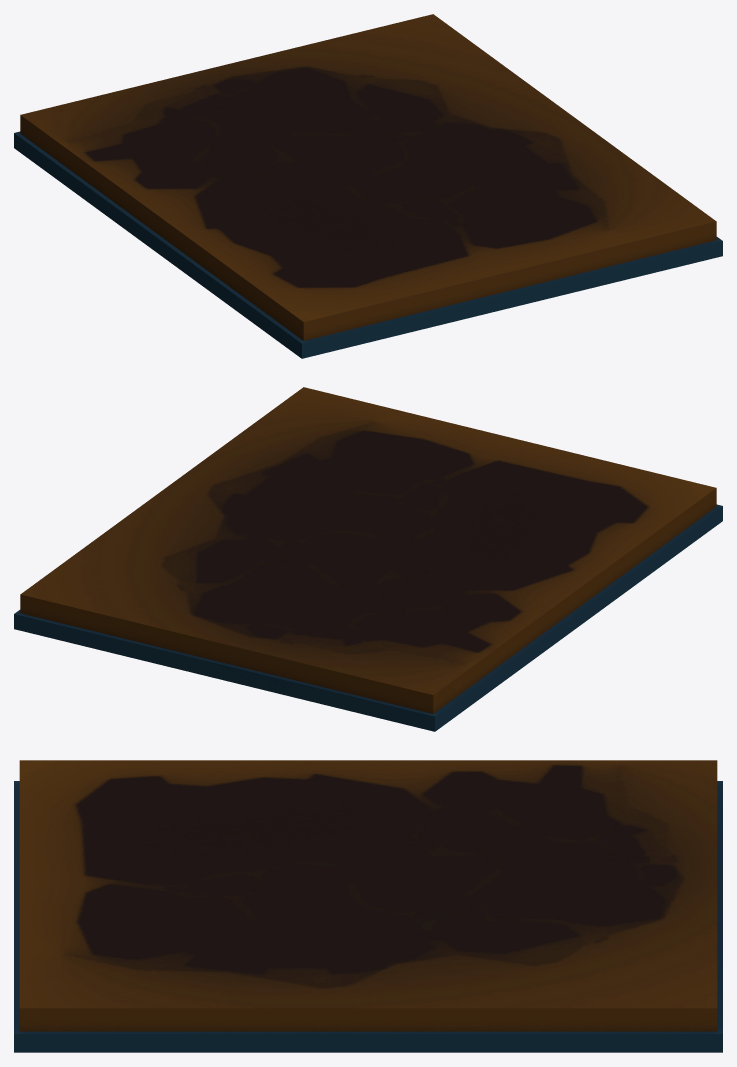
Rendered from Ground_02.FBX.
3 views of the same model, one above another, from view 1: azimuth 30°, elevation 25°; view 2: azimuth 150°, elevation 25°; view 3: azimuth 270°, elevation 25° (orthographic). The views are drawn at different scales.
Parts seen in each view (by area): view 1: Ground_02; view 2: Ground_02; view 3: Ground_02.
Part boxes in pixels (box(x1,y1,x2,y2)): Ground_02: box(14, 14, 722, 358); Ground_02: box(14, 387, 722, 731); Ground_02: box(14, 760, 722, 1052).
Size of the model in its own units: 21.94 by 1.69 by 25.99.
